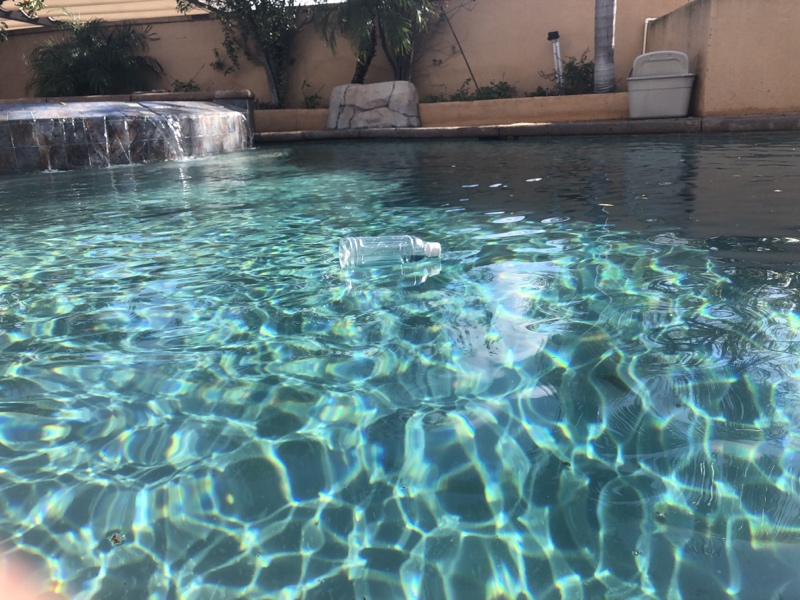Plastic Bottle: (328, 228, 443, 271)
